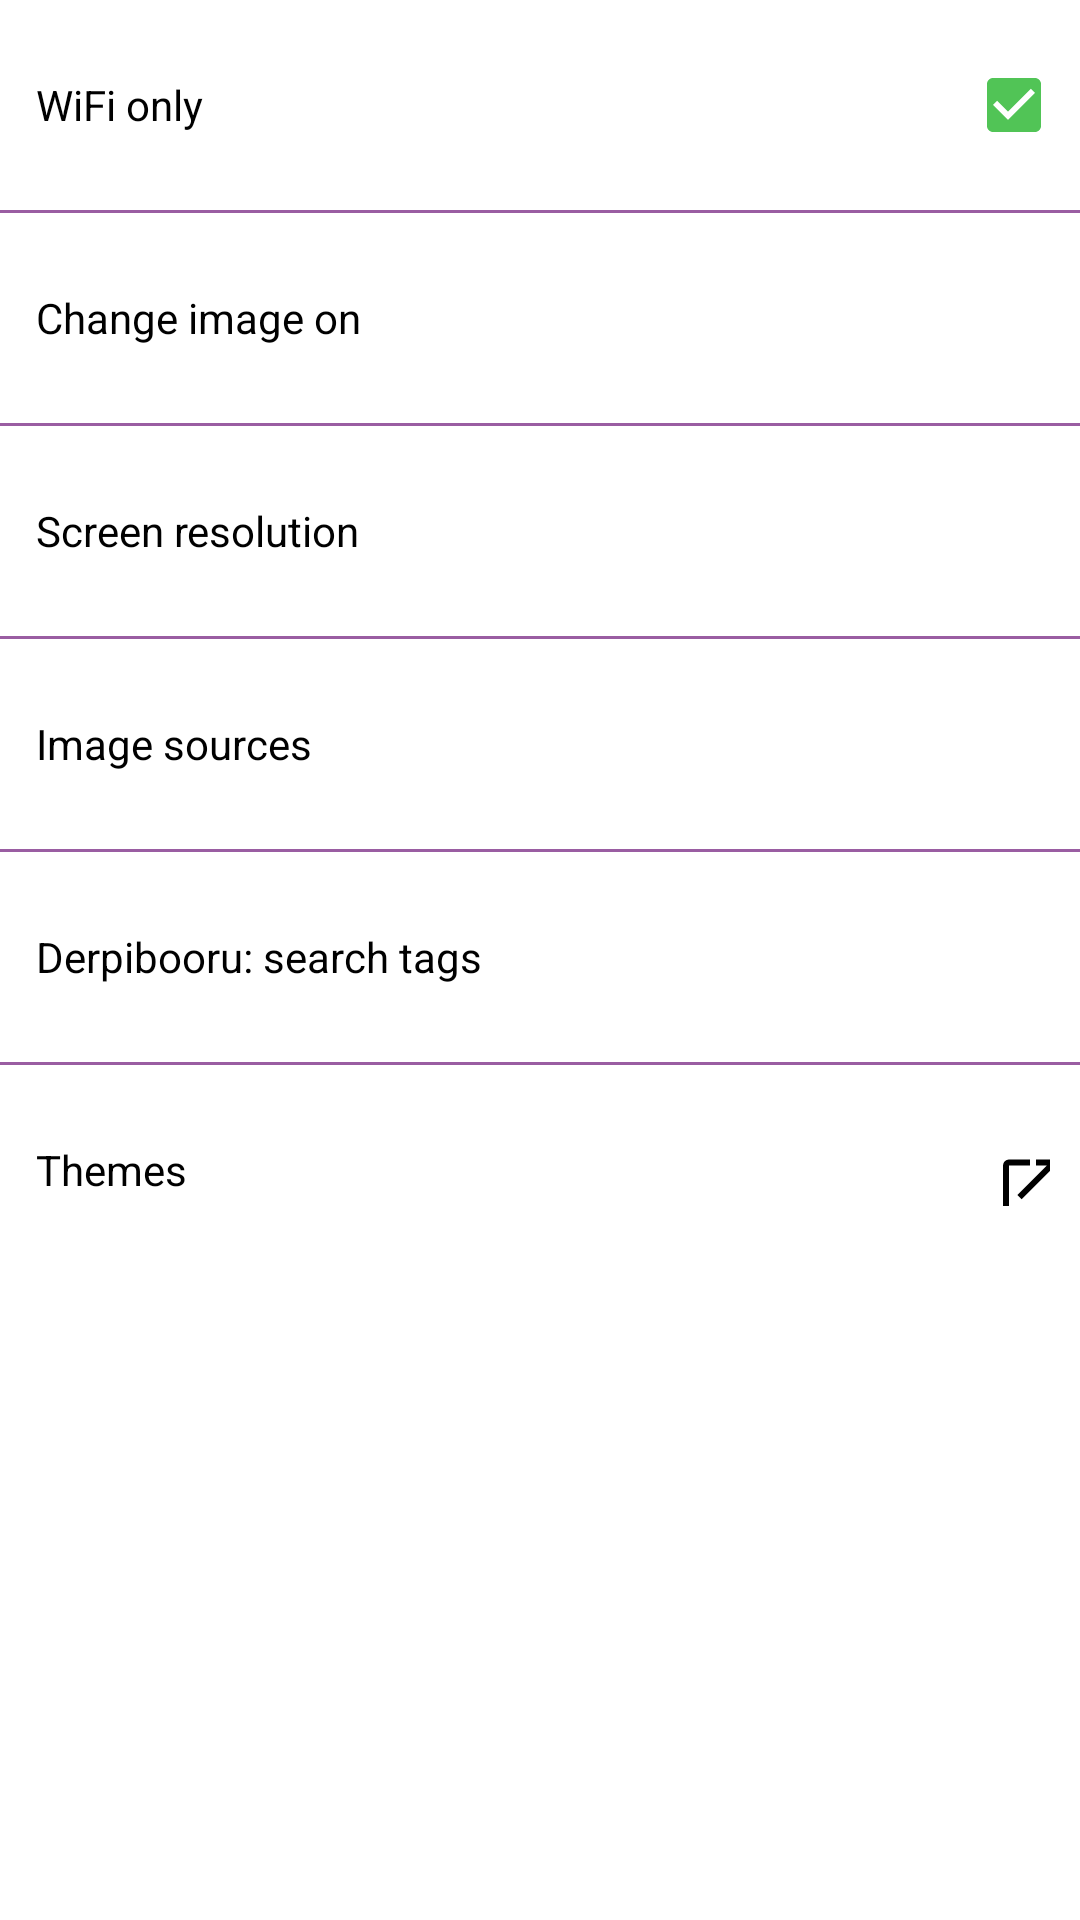

Icons on this 1080*1920 Android screen, each with the point to tap as (x,y):
open in: (1026,1182)
